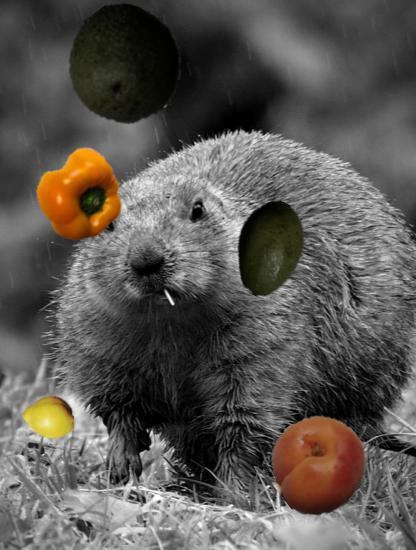Apricot: (270, 416, 367, 513)
Avocado: (66, 5, 185, 124), (220, 200, 318, 298)
Pepper: (37, 152, 125, 240)
Quince: (22, 391, 75, 444)
